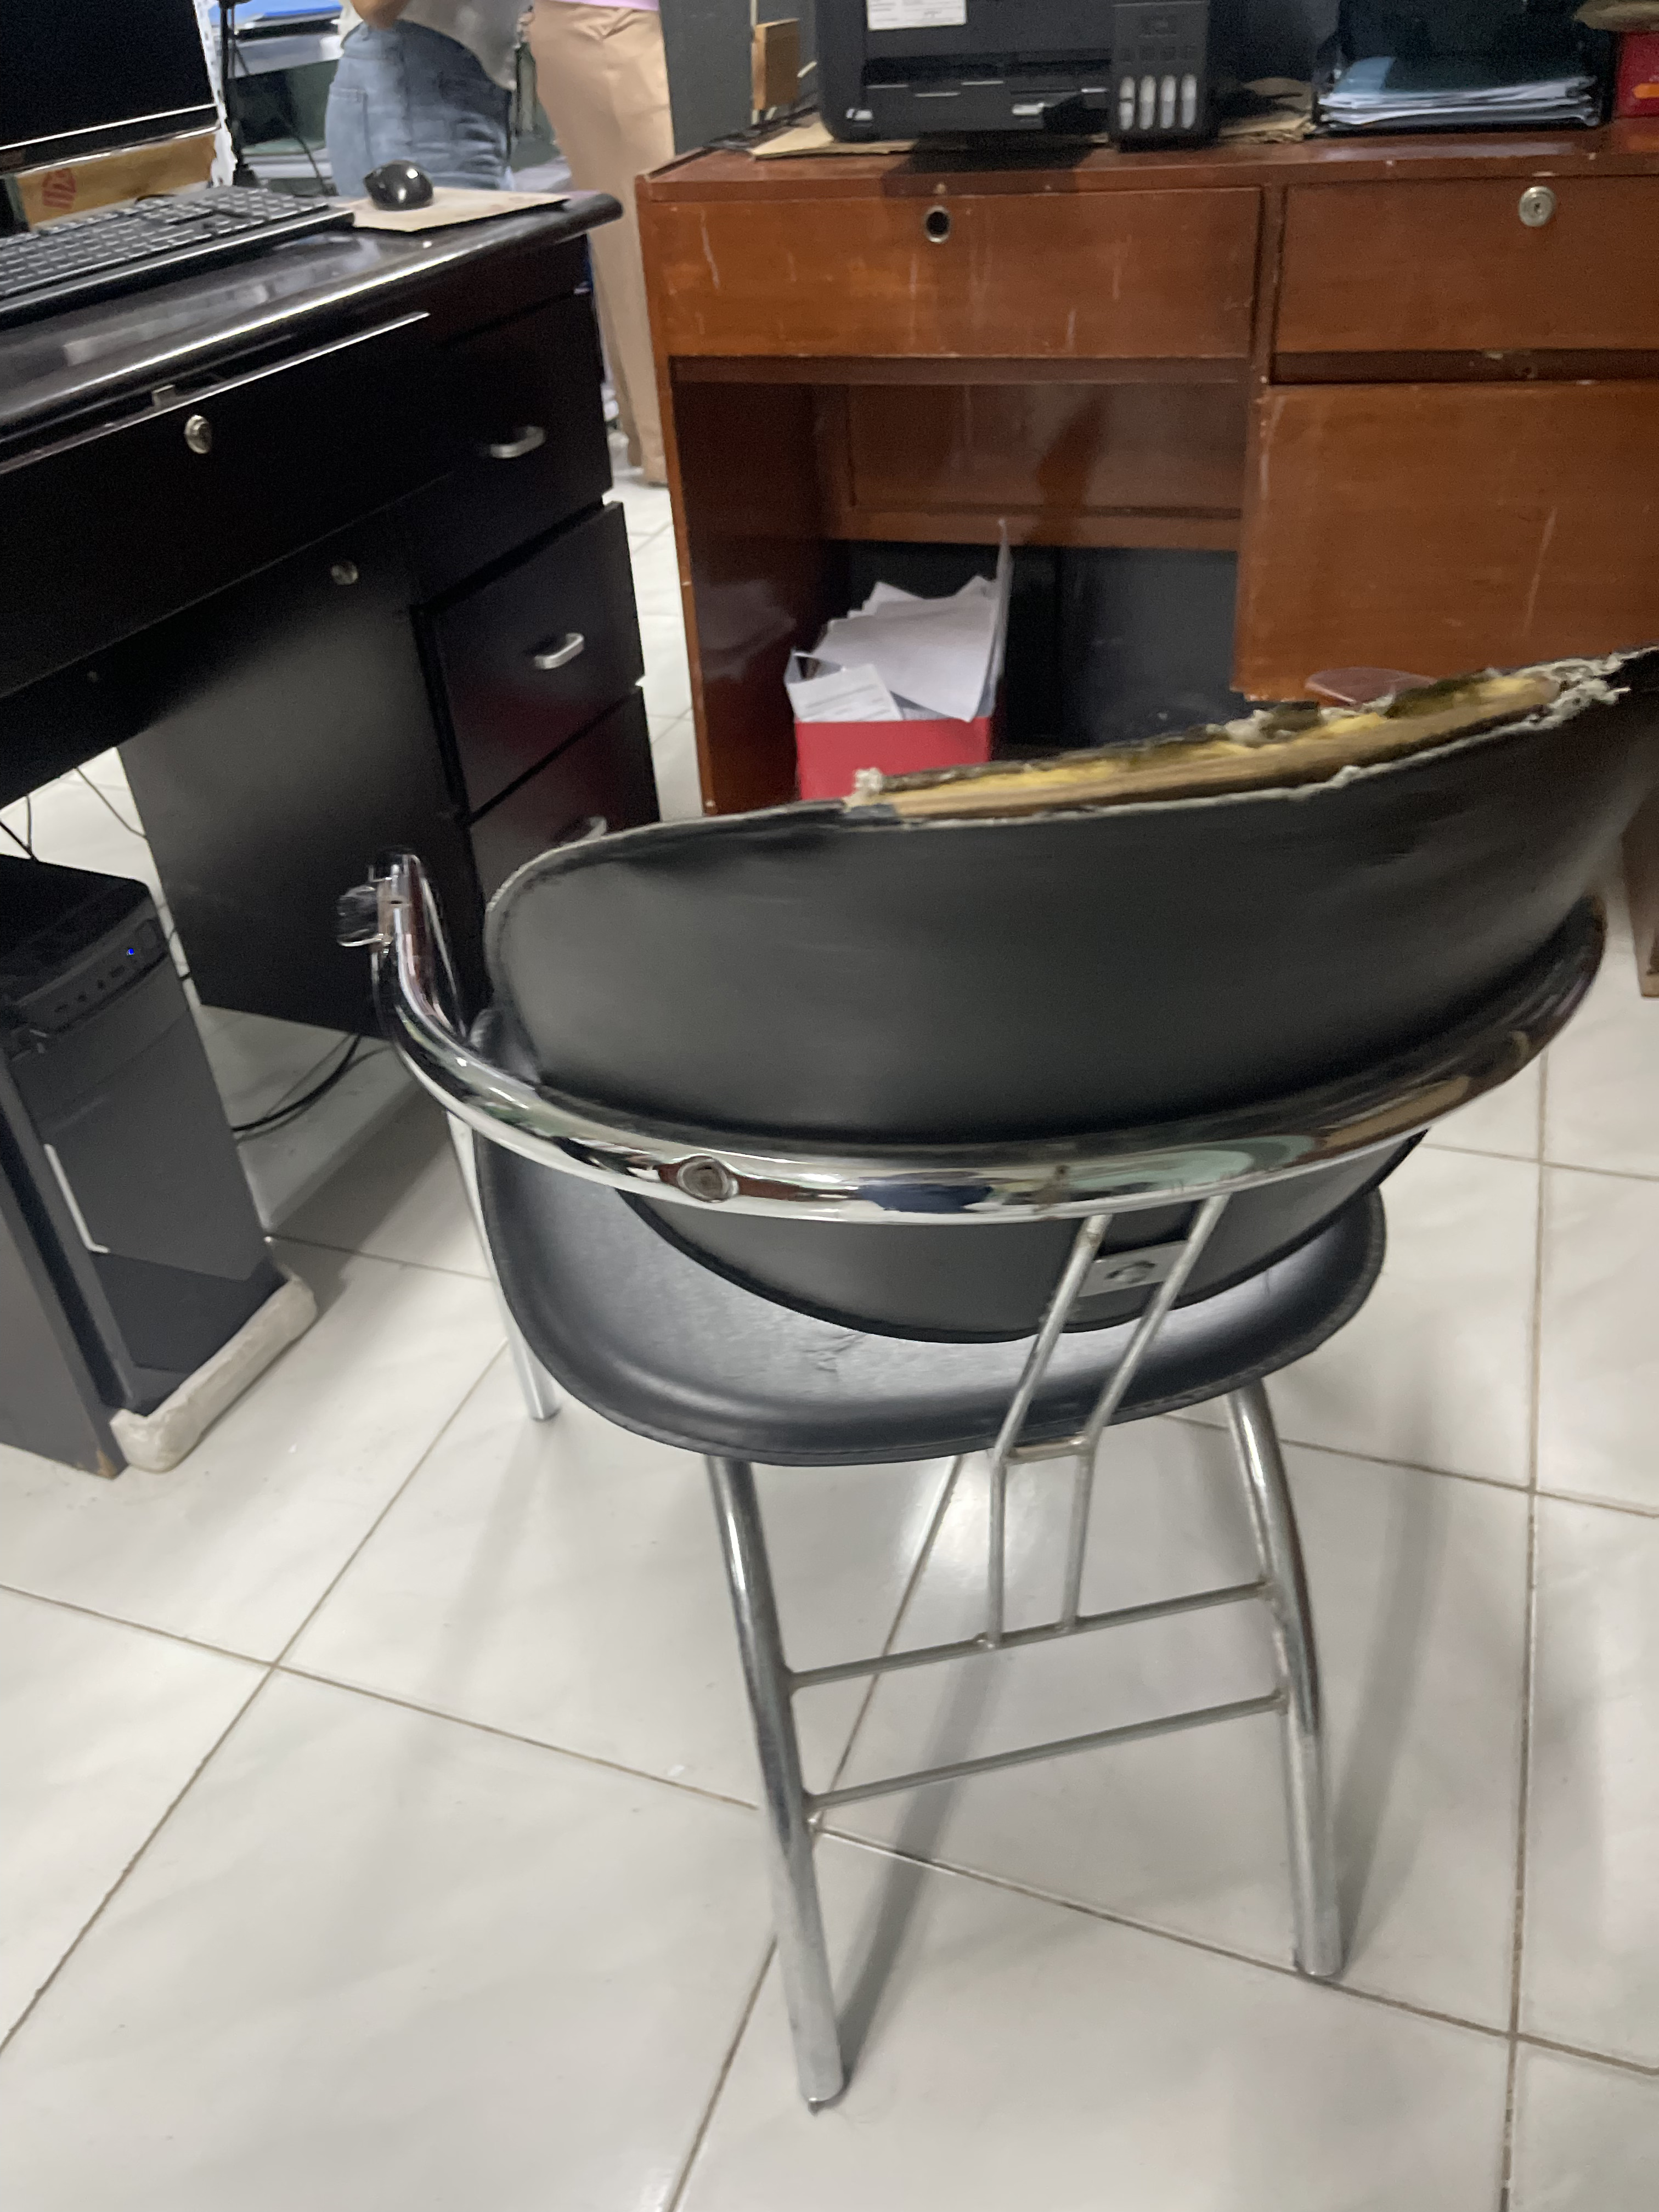chair1: (347, 639, 1659, 2120)
